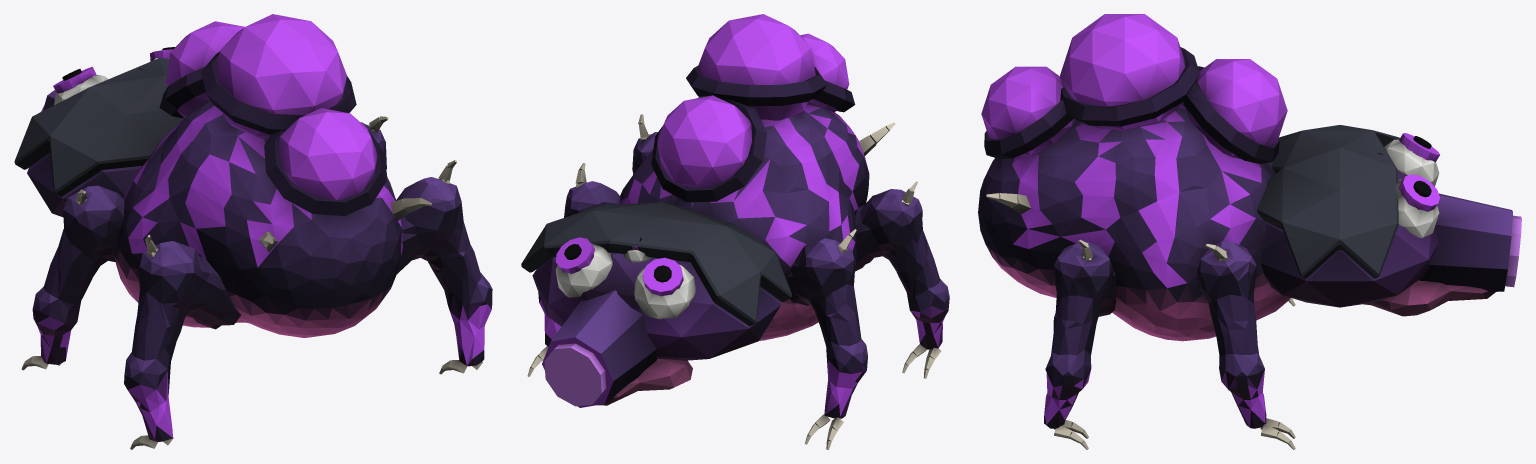
File: Spitter.fbx
The picture shows the model from 3 angles, left to right: view 1: azimuth 30°, elevation 25°; view 2: azimuth 150°, elevation 25°; view 3: azimuth 270°, elevation 25°; orthographic projection. The views are drawn at different scales.
Visible parts, largest first — view 1: Torso, Sacs_Glow, Head, Leg_3, Leg_4, Leg_1, Eyes_Glow; view 2: Head, Torso, Sacs_Glow, Leg_1, Leg_3, Spout_Glow, Leg_2, Eyes_Glow, Jaw, Leg_4; view 3: Torso, Head, Sacs_Glow, Leg_4, Leg_2, Jaw, Eyes_Glow, Spout_Glow.
Boxes of the visible parts, <box> form: Torso: <box>114,51,431,337</box>; Sacs_Glow: <box>165,14,377,200</box>; Head: <box>14,47,184,217</box>; Leg_3: <box>124,235,240,449</box>; Leg_4: <box>396,160,492,374</box>; Leg_1: <box>21,185,124,370</box>; Eyes_Glow: <box>53,49,172,93</box>; Head: <box>521,202,791,407</box>; Torso: <box>619,66,895,340</box>; Sacs_Glow: <box>657,14,849,188</box>; Leg_1: <box>788,229,867,449</box>; Leg_3: <box>855,181,949,378</box>; Spout_Glow: <box>544,343,606,406</box>; Leg_2: <box>527,163,620,376</box>; Eyes_Glow: <box>556,237,683,296</box>; Jaw: <box>597,358,692,405</box>; Leg_4: <box>632,114,657,174</box>; Torso: <box>978,47,1290,341</box>; Head: <box>1257,125,1512,307</box>; Sacs_Glow: <box>981,14,1287,159</box>; Leg_4: <box>1044,239,1116,449</box>; Leg_2: <box>1197,241,1295,449</box>; Jaw: <box>1363,280,1495,316</box>; Eyes_Glow: <box>1398,133,1440,211</box>; Spout_Glow: <box>1505,215,1521,287</box>.
Bounding box in the file's own units: 4.57 × 4.5 × 6.22.
